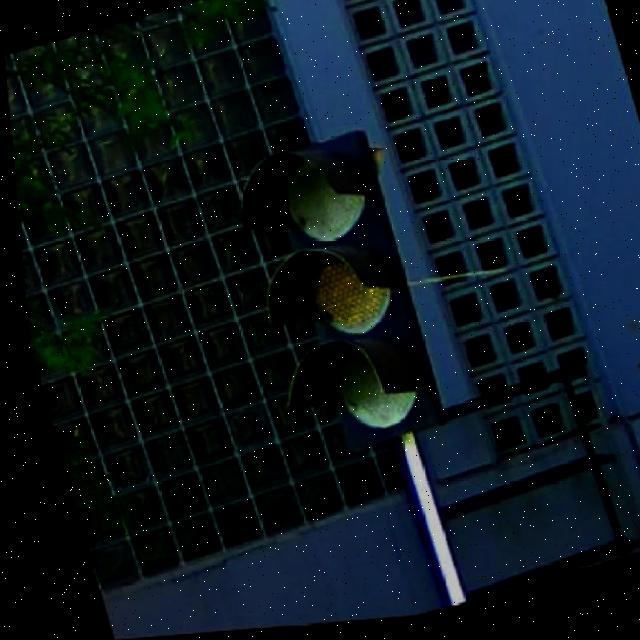Lampu Kuning: (220, 128, 442, 470)
